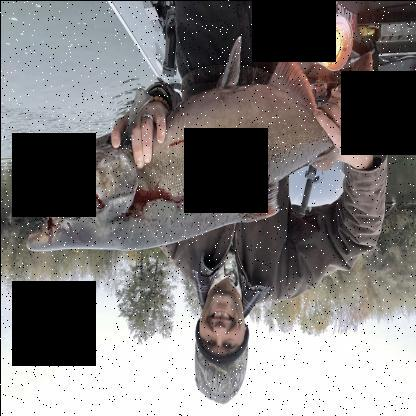fish: (18, 49, 384, 253)
